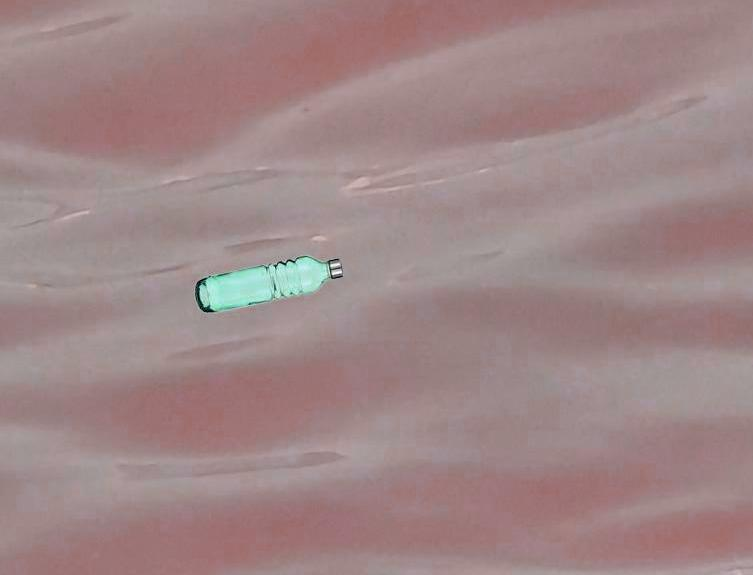Plastic: (193, 253, 344, 318)
